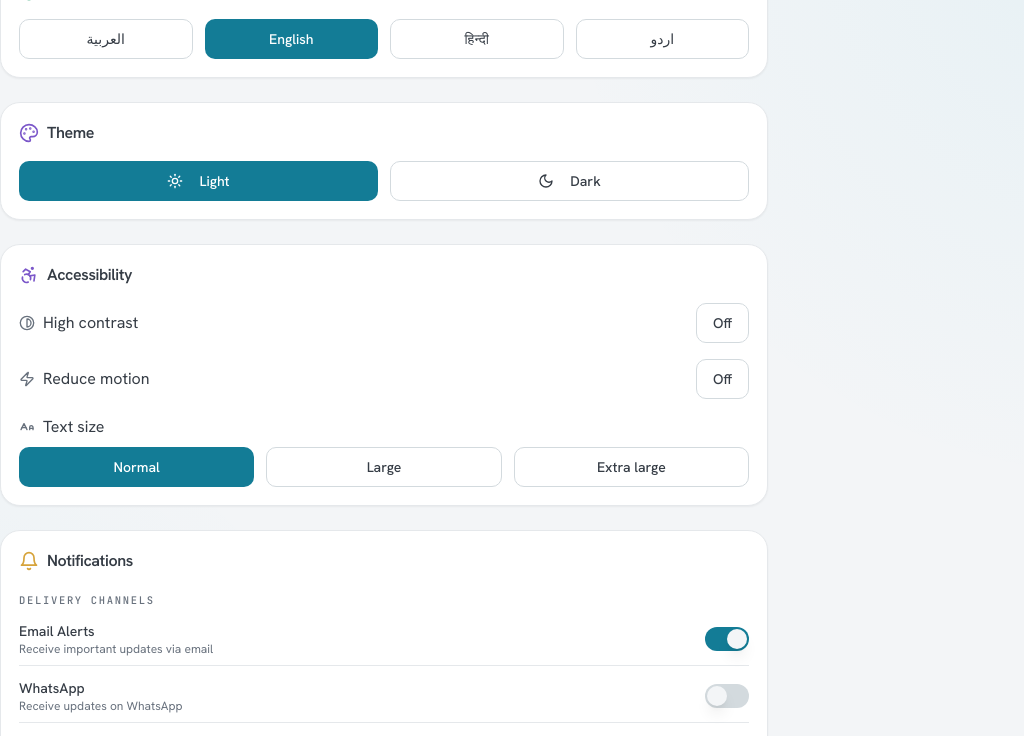
Scenario: UserProfile reduce-motion a11y (#226) › toggles the reduce-motion mode on and applies the root class
This screenshot has width=1024, height=736.
(page scrolled)
Click the button with aria-label "reduce motion".
click(722, 379)  # box [696, 359, 749, 399]
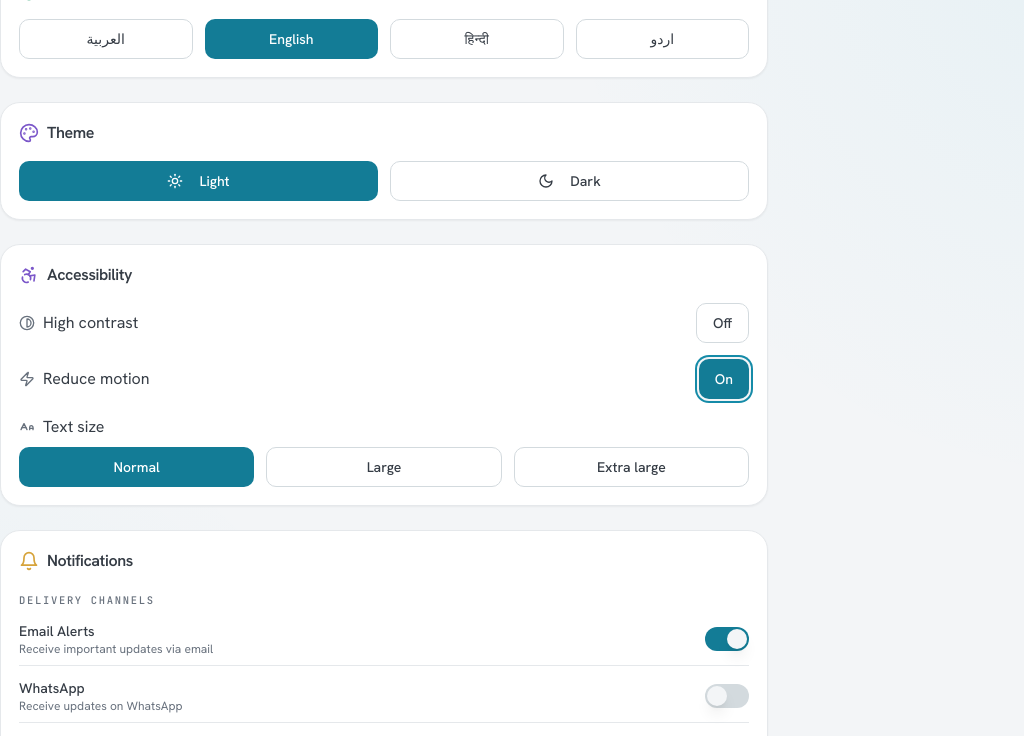
Expected: the button with aria-label "reduce motion" is pressed, [699, 359, 749, 399]
